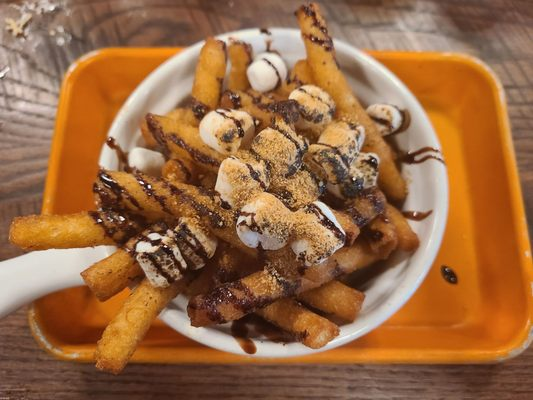sushi: (32, 0, 450, 359)
